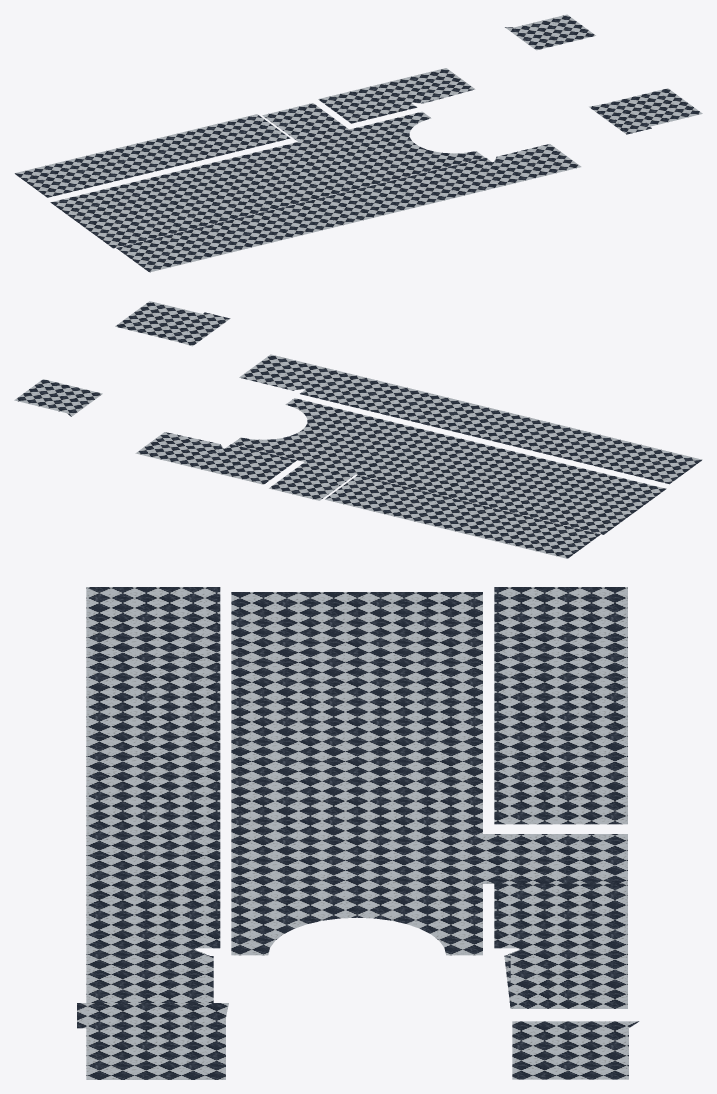
Rendered from pod.obj.
The picture shows the model from 3 angles, top to bottom: view 1: azimuth 30°, elevation 25°; view 2: azimuth 150°, elevation 25°; view 3: azimuth 270°, elevation 25°; orthographic projection. The views are drawn at different scales.
Size of the model in its own units: 34.71 by 1.57 by 15.29.
